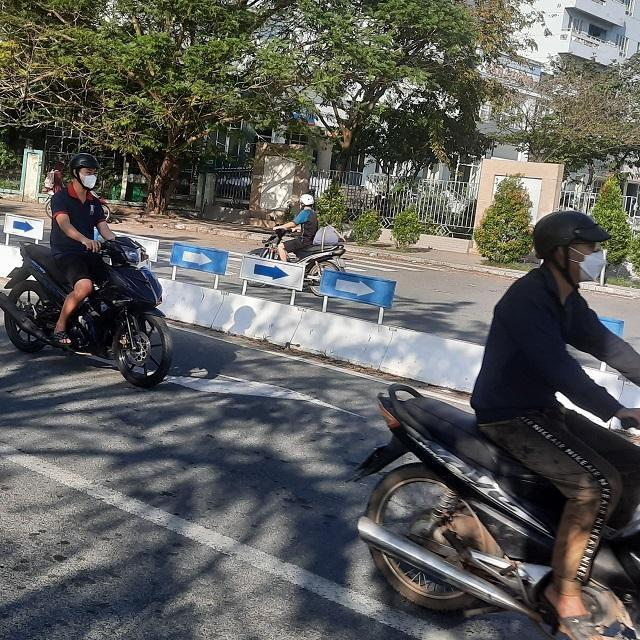Helmet: (528, 206, 612, 284), (66, 148, 102, 192)
